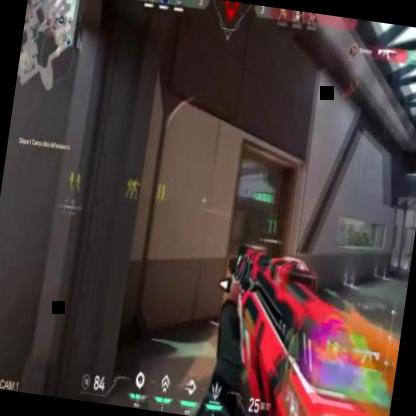enemy: (130, 178, 141, 198), (124, 176, 133, 198), (67, 170, 75, 190), (74, 171, 82, 191), (159, 182, 167, 202), (155, 180, 162, 202)
enemy_head: (128, 178, 132, 184), (76, 172, 80, 177), (157, 182, 161, 187), (161, 184, 165, 188), (70, 171, 73, 175), (134, 179, 136, 183)
